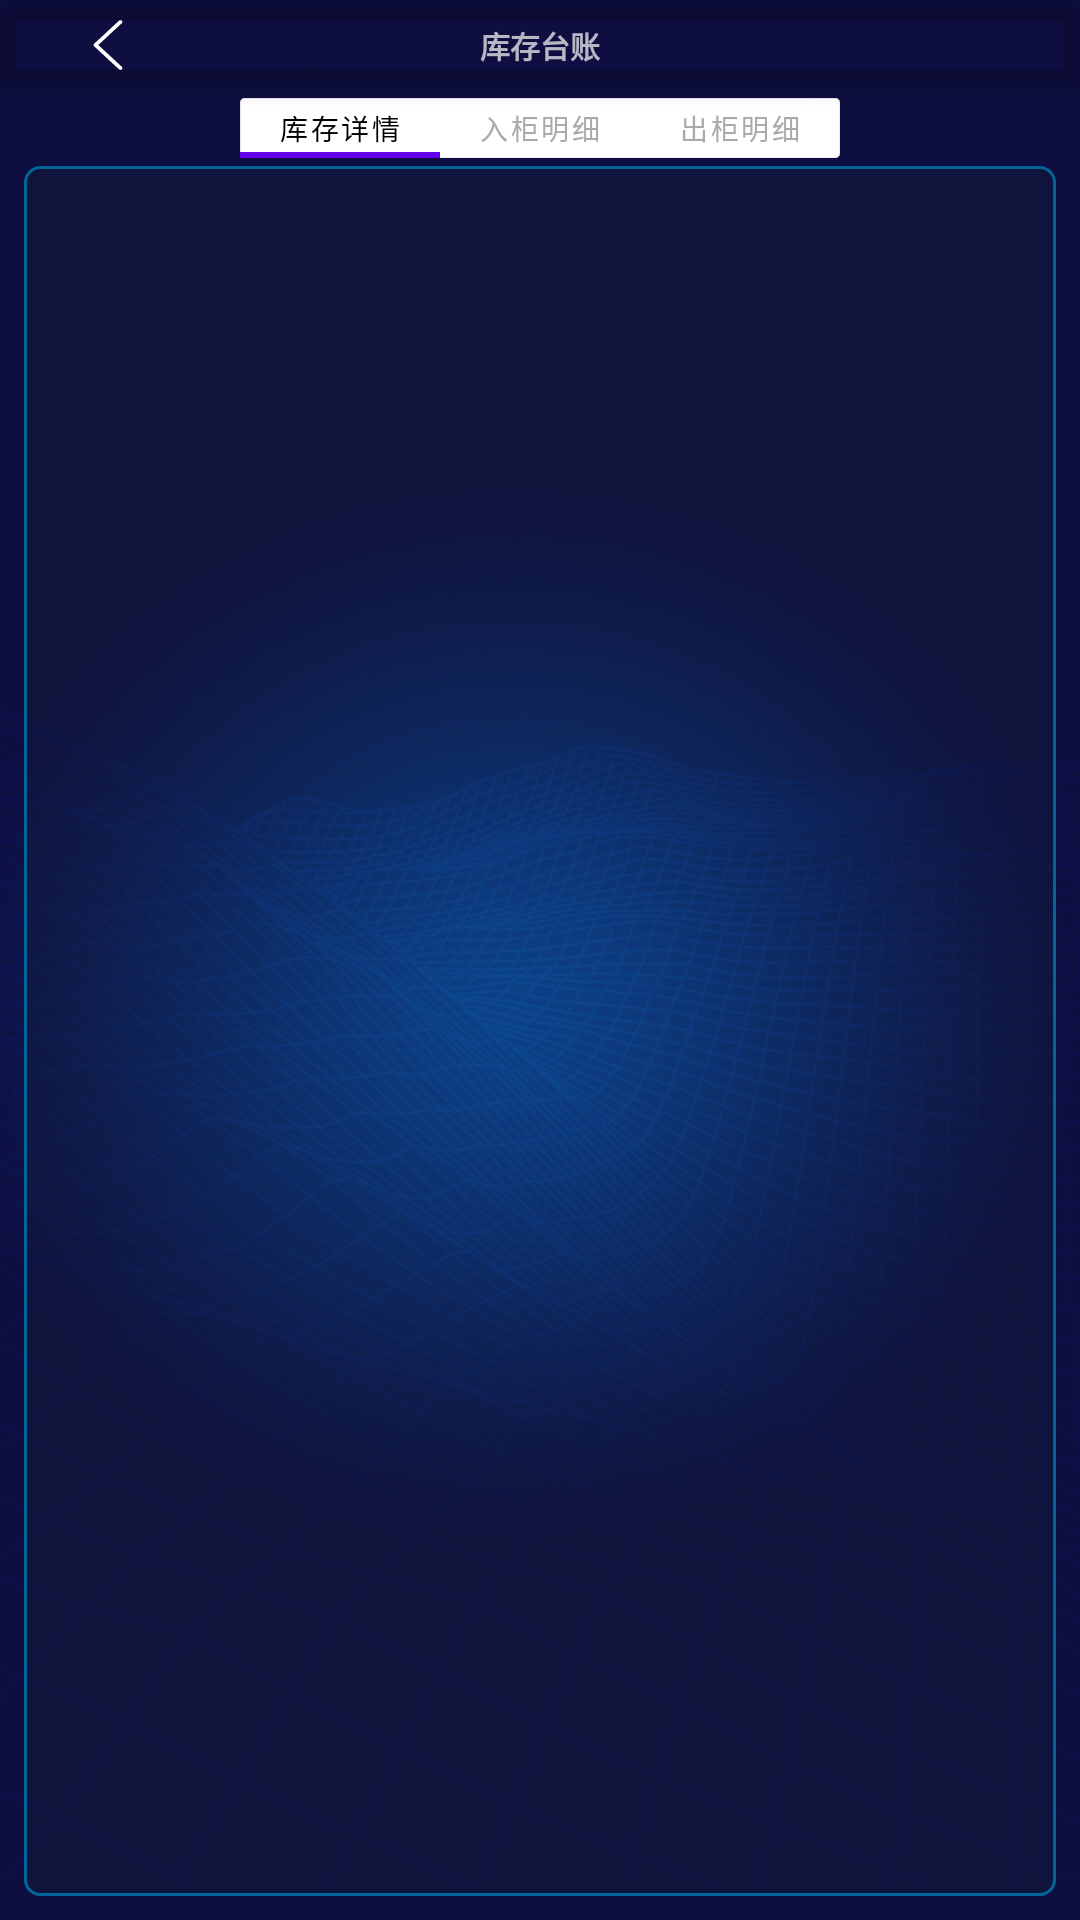

Icons on this 1080 × 1920 Android screen, each with its box as {"left": x1, "top": y1, "right": x2, "bottom": y2}:
back: {"left": 93, "top": 20, "right": 123, "bottom": 70}
